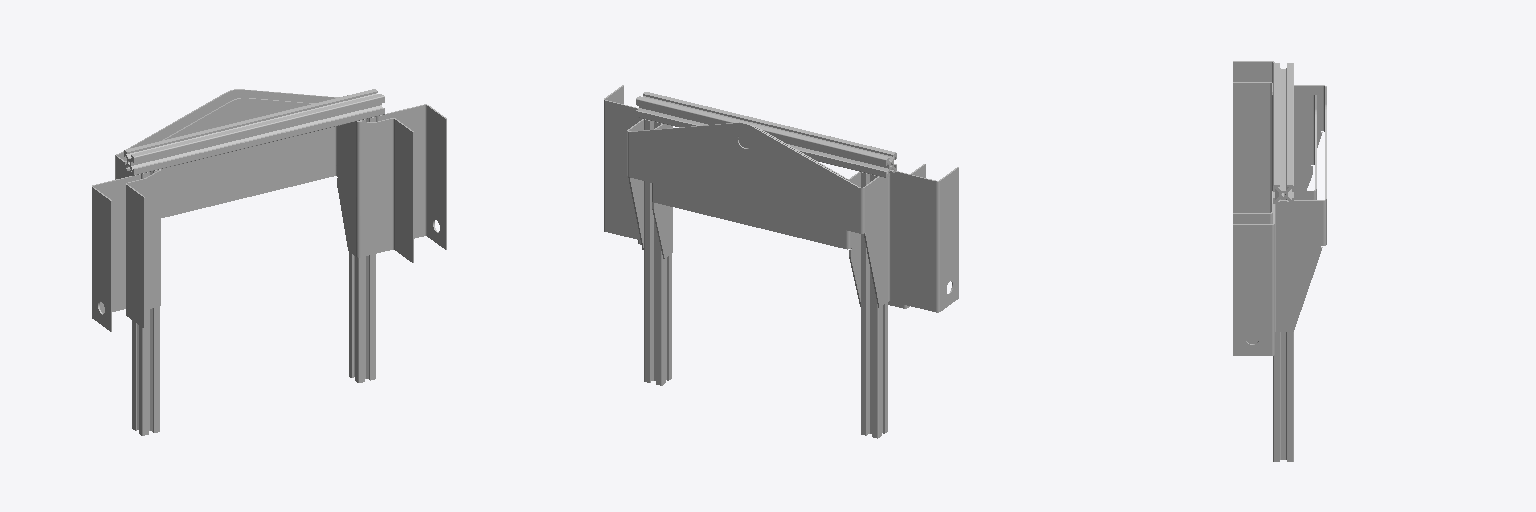
File: body.obj
3 views of the same model, side by side, from view 1: azimuth 30°, elevation 25°; view 2: azimuth 150°, elevation 25°; view 3: azimuth 270°, elevation 25° (orthographic).
Visible parts, largest first — view 1: obj_[number redacted]; view 2: obj_[number redacted]; view 3: obj_[number redacted].
Boxes of the visible parts, x1=… form: obj_[number redacted]: x1=92, y1=89, x2=446, y2=435; obj_[number redacted]: x1=604, y1=85, x2=958, y2=438; obj_[number redacted]: x1=1233, y1=61, x2=1326, y2=461.
Size of the model in its own units: 0.376 by 0.3185 by 0.09.